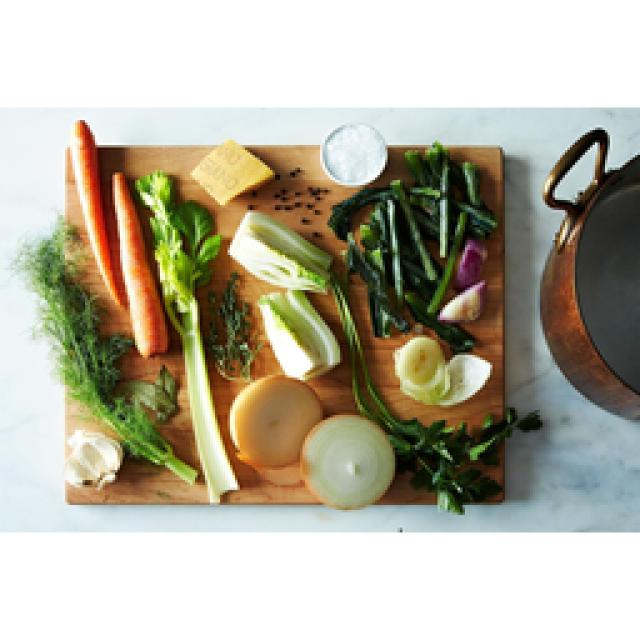food_waste: (230, 142, 495, 510), (70, 120, 238, 500), (30, 230, 195, 488), (395, 335, 488, 405), (190, 140, 272, 202), (320, 125, 385, 185)
